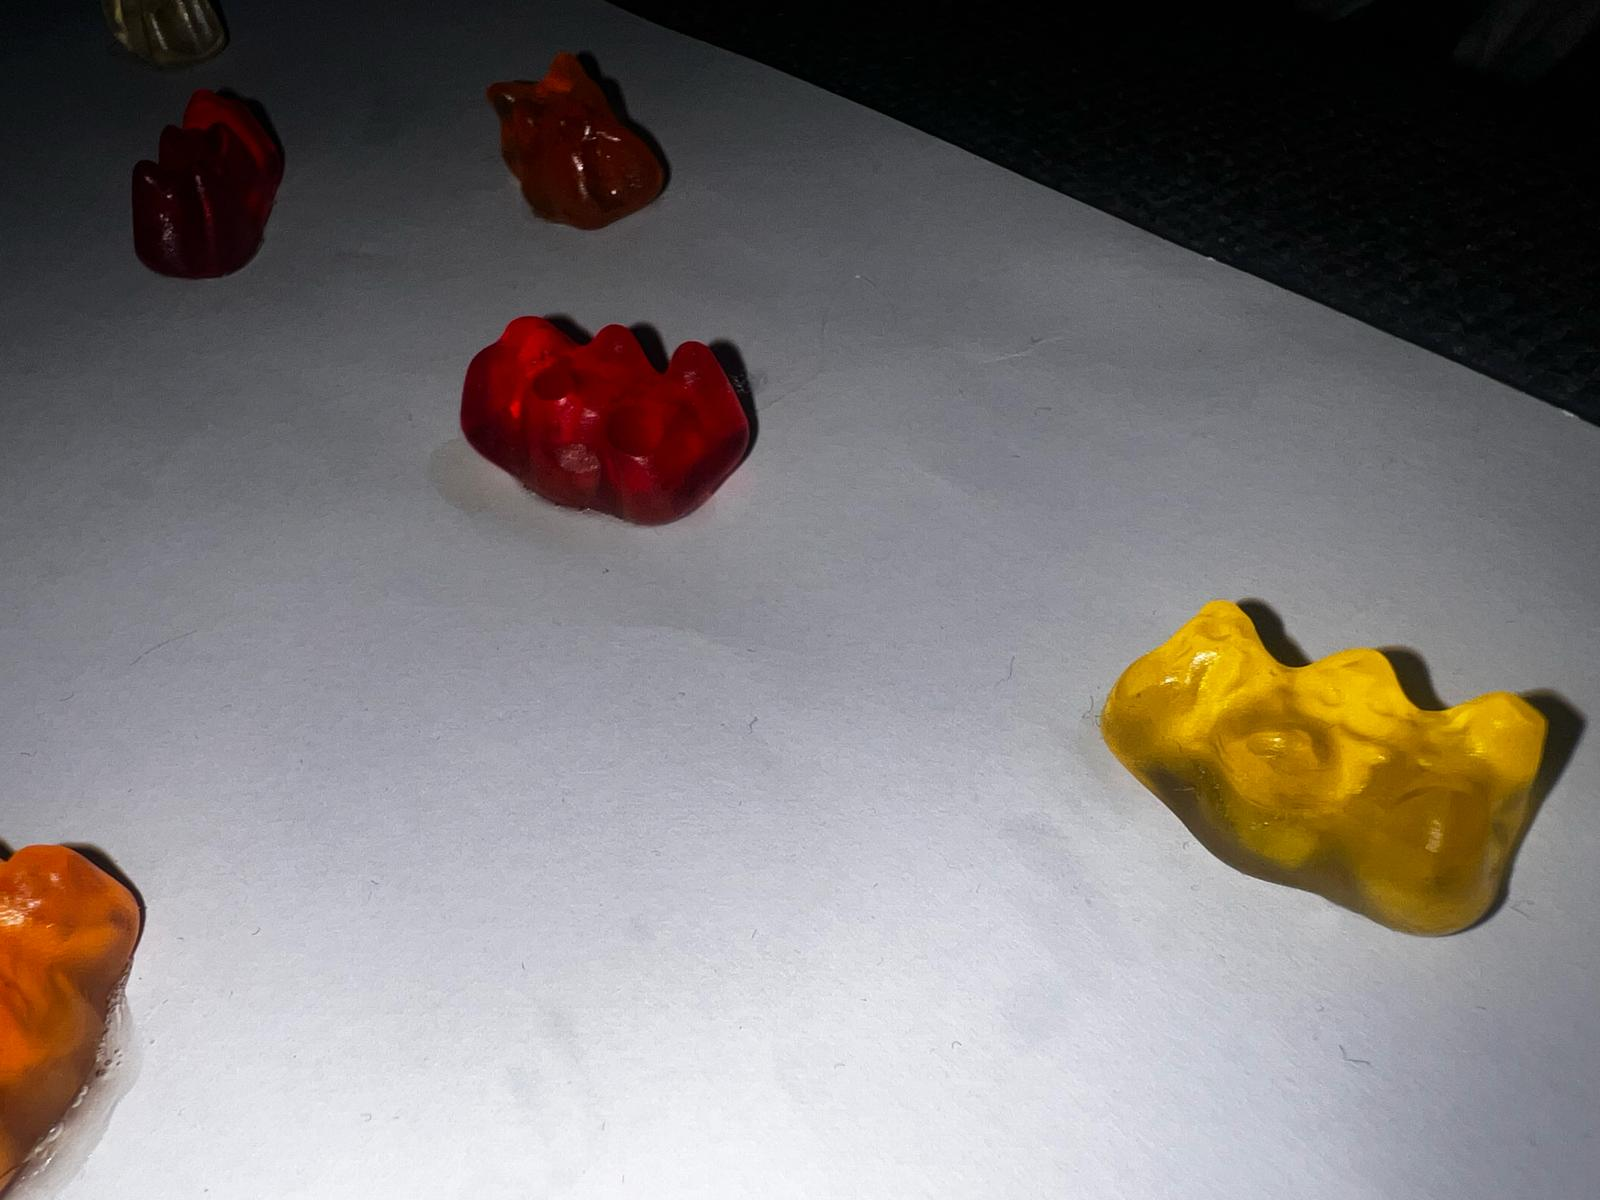gummybear: (1094, 590, 1587, 947), (446, 308, 762, 534), (106, 81, 296, 292), (483, 47, 682, 239)
